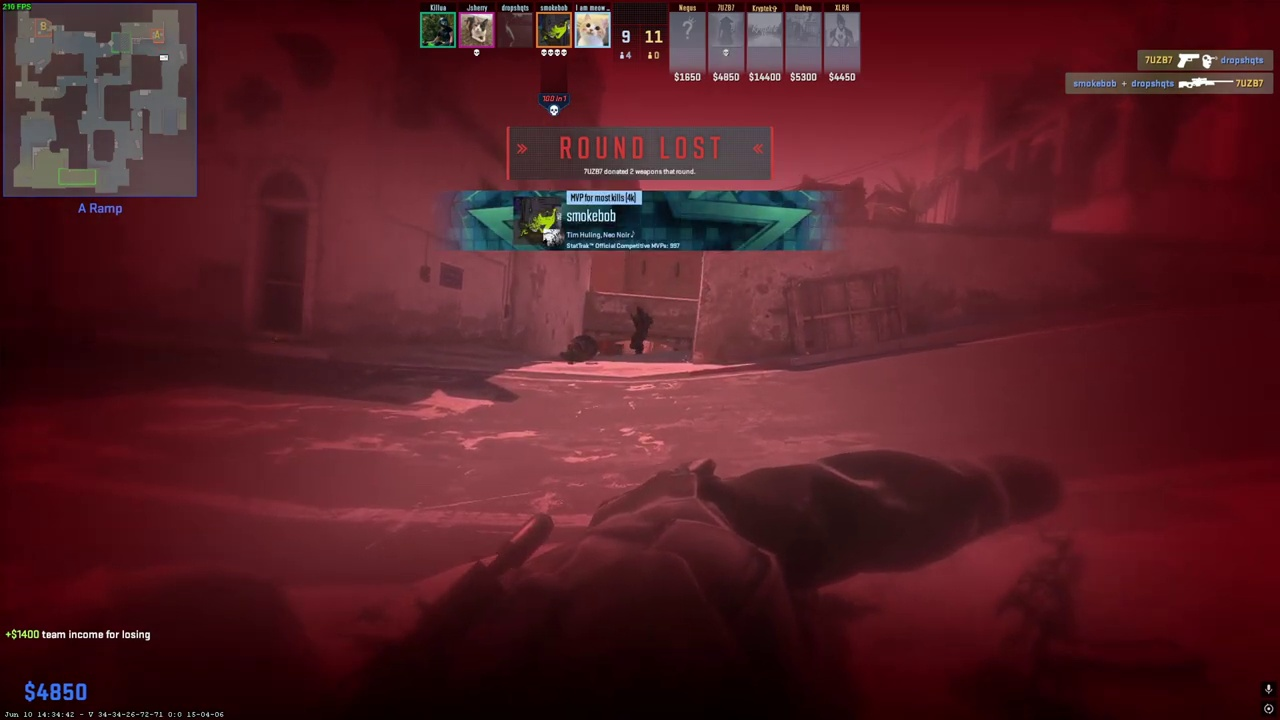CT: (629, 306, 651, 354)
